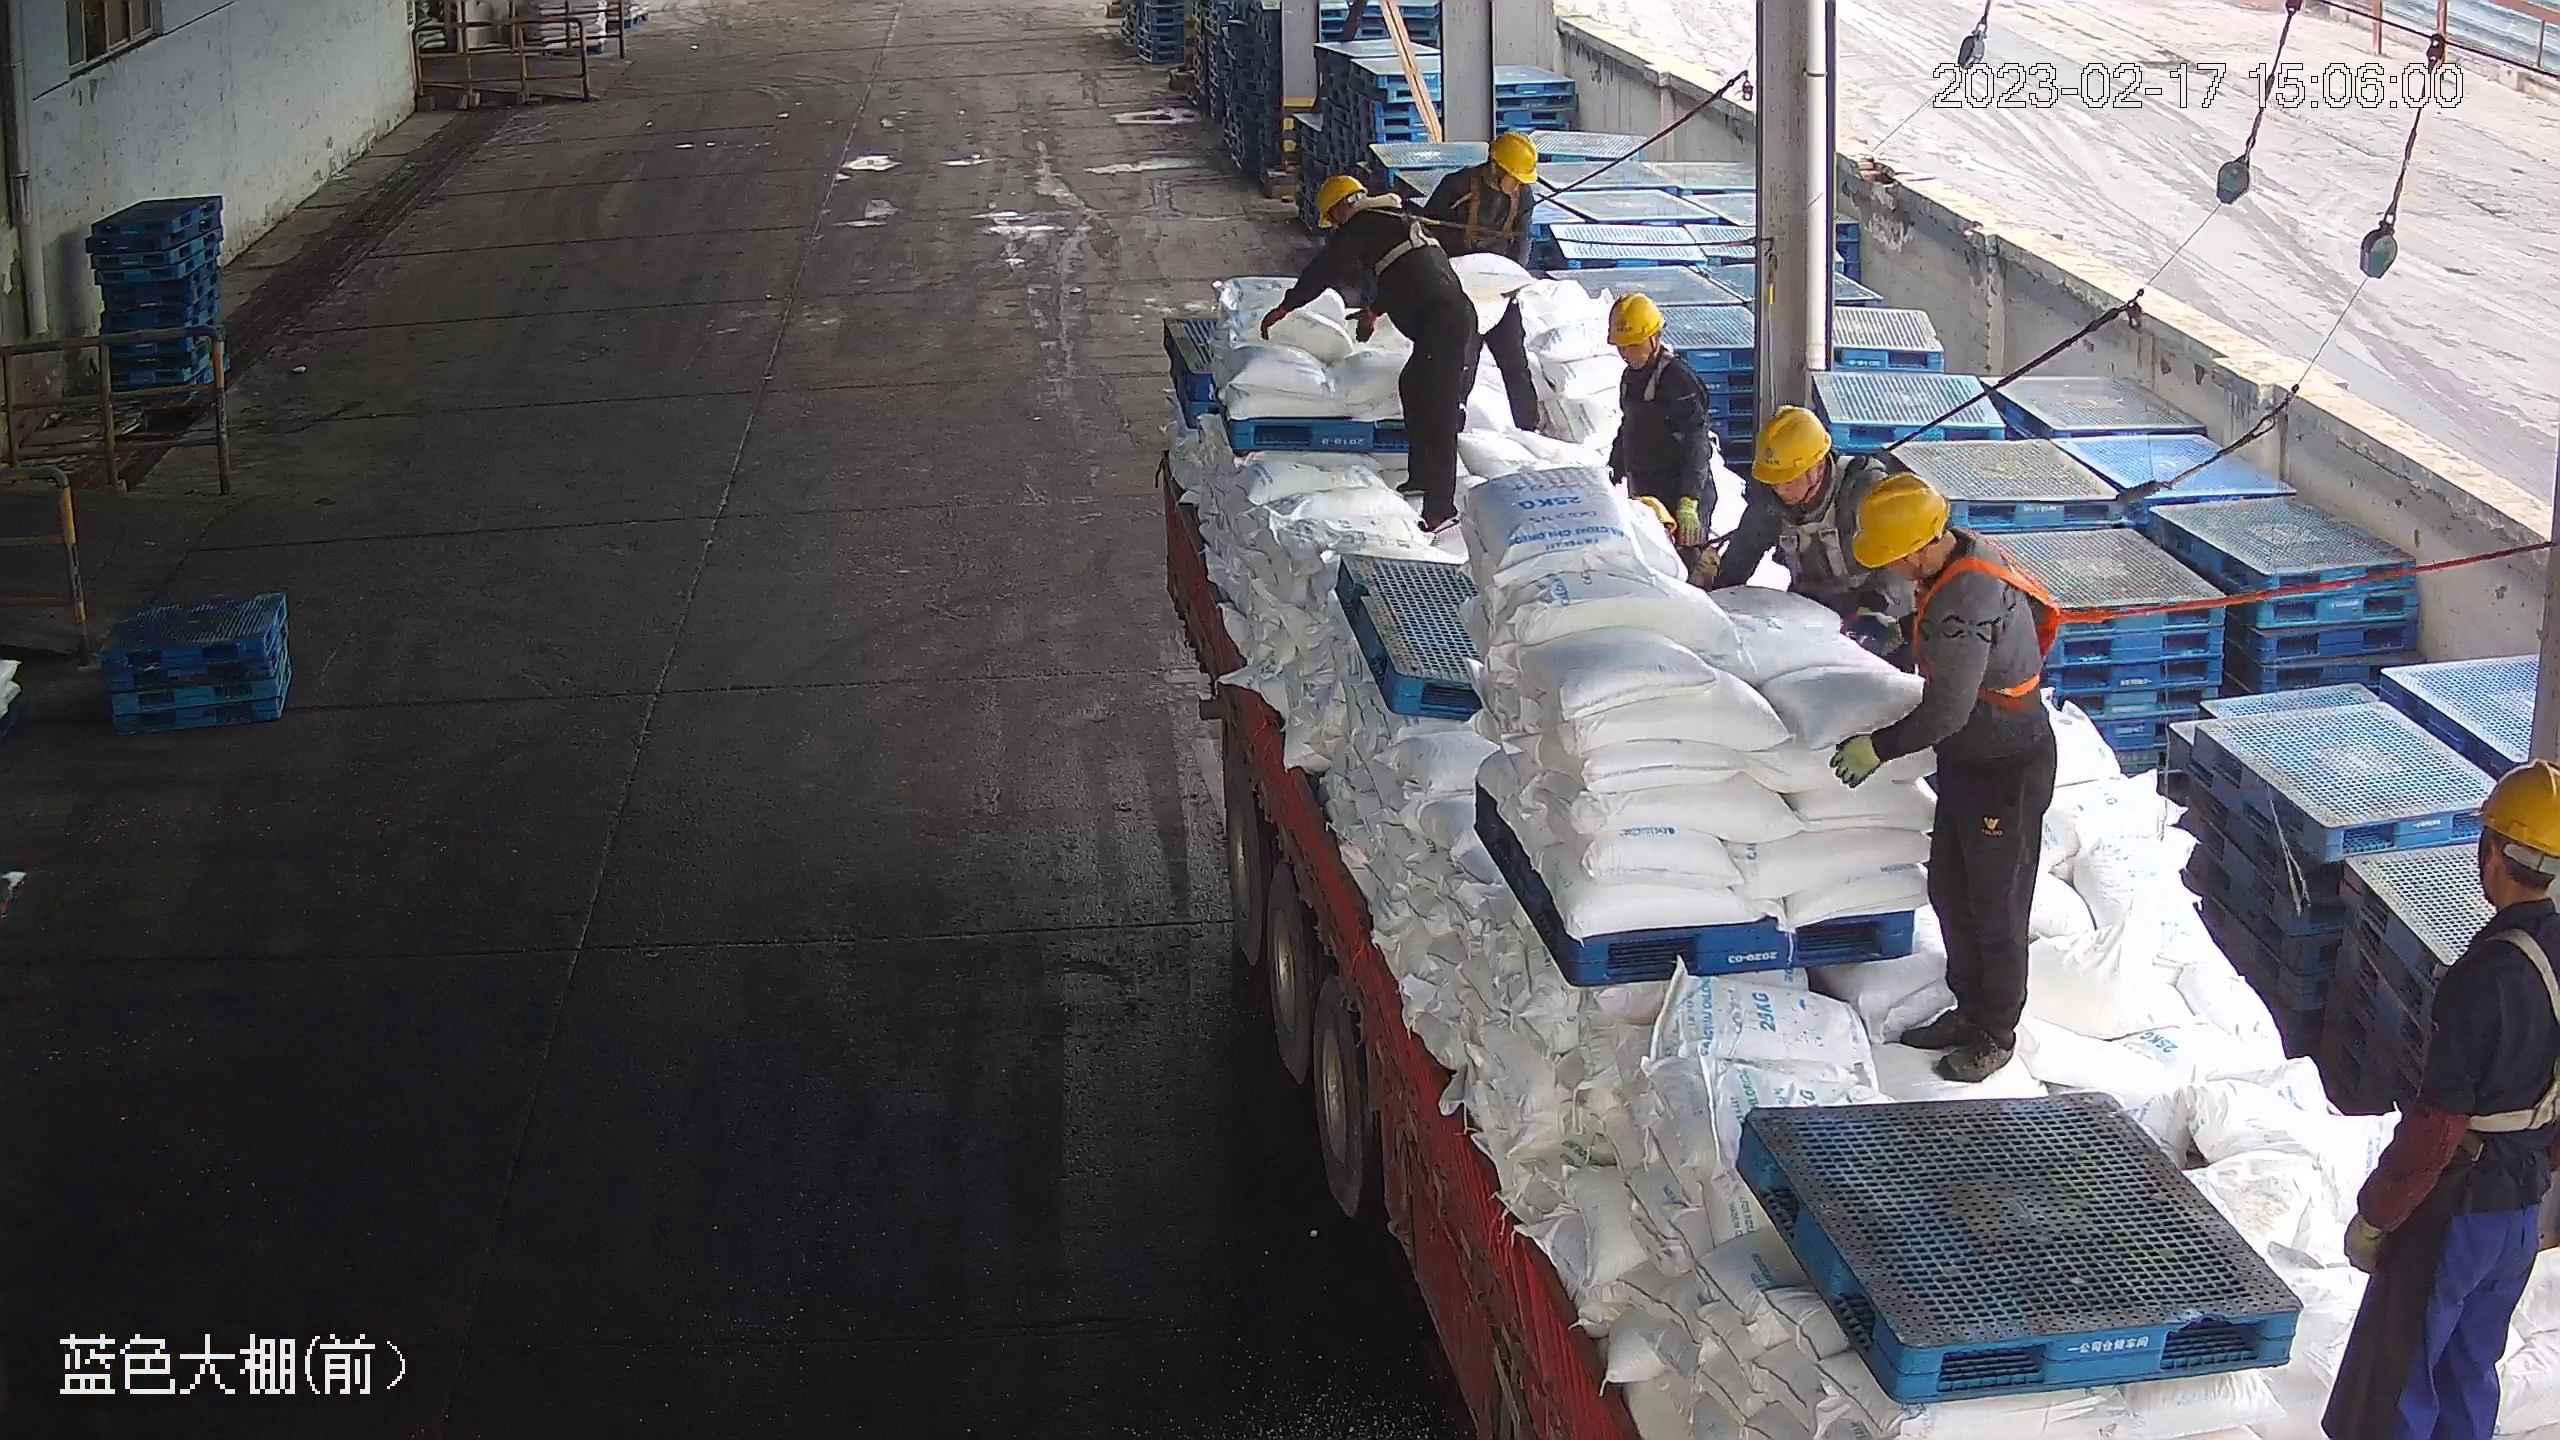belt: (2434, 910, 2560, 1145), (1912, 545, 2089, 708), (1763, 477, 1862, 563), (1357, 198, 1447, 282), (1458, 170, 1527, 245), (1615, 346, 1685, 407)
head: (2431, 759, 2557, 1045), (1850, 474, 2036, 662), (1725, 406, 1881, 555), (1601, 291, 1709, 409), (1308, 175, 1417, 270), (1436, 128, 1543, 214)
helmet: (1850, 472, 1951, 570), (2472, 757, 2559, 869), (1747, 404, 1832, 483), (1604, 290, 1663, 346), (1312, 173, 1366, 226), (1487, 130, 1539, 181)
people: (2332, 759, 2560, 1434), (1826, 471, 2059, 1086), (1264, 171, 1482, 533), (1424, 130, 1555, 428), (1599, 289, 1729, 570)
truck: (1165, 353, 2545, 1440)
